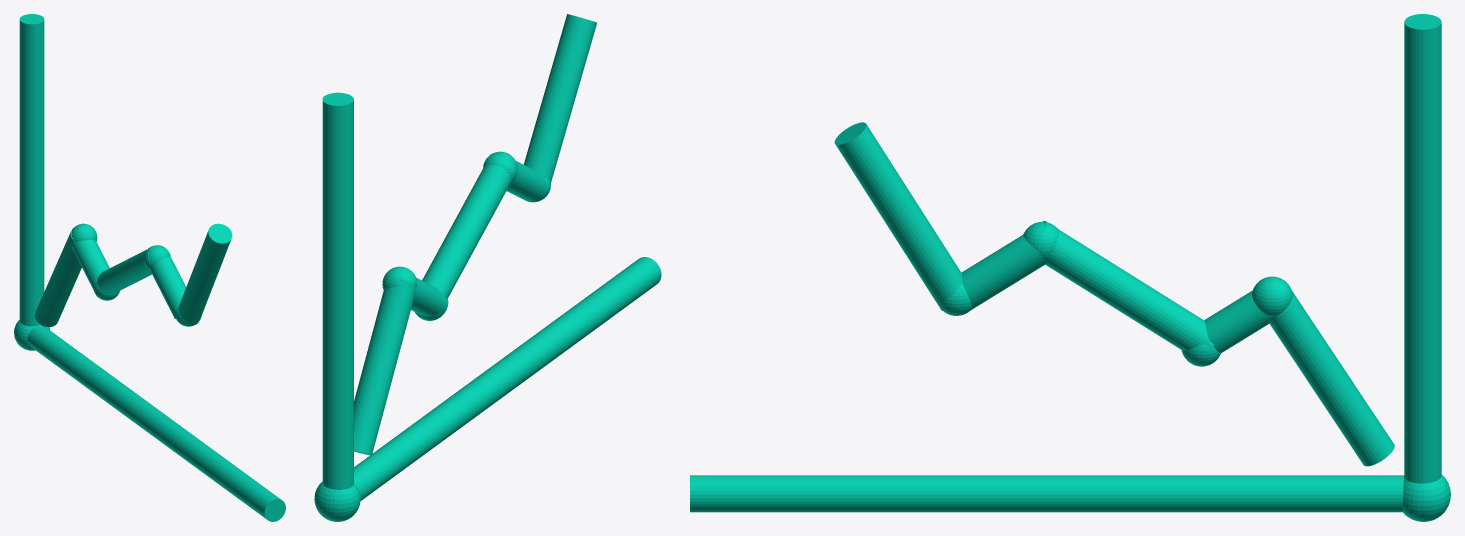
Rendered from Graph.dae.
The picture shows the model from 3 angles, left to right: view 1: azimuth 30°, elevation 25°; view 2: azimuth 150°, elevation 25°; view 3: azimuth 270°, elevation 25°; orthographic projection. The views are drawn at different scales.
Parts seen in each view (by area): view 1: Cylinder, Cylinder_001, Cylinder_007, Cylinder_002, Cylinder_005, Cylinder_006, Cylinder_004, Sphere_002, Sphere, Sphere_004; view 2: Cylinder, Cylinder_001, Cylinder_002, Cylinder_007, Cylinder_005, Sphere, Cylinder_006, Cylinder_004, Sphere_004, Sphere_002; view 3: Cylinder_001, Cylinder, Cylinder_007, Cylinder_002, Cylinder_005, Cylinder_006, Cylinder_004, Sphere, Sphere_004, Sphere_002.
Part boxes in pixels (box(x1,y1,x2,y2)): Cylinder: box(19, 14, 44, 326); Cylinder_001: box(27, 325, 285, 521); Cylinder_007: box(179, 223, 232, 325); Cylinder_002: box(34, 227, 81, 327); Cylinder_005: box(97, 245, 164, 293); Cylinder_006: box(150, 256, 186, 318); Cylinder_004: box(70, 240, 109, 295); Sphere_002: box(143, 245, 170, 270); Sphere: box(14, 320, 49, 350); Sphere_004: box(71, 223, 97, 241); Cylinder: box(322, 92, 353, 489); Cylinder_001: box(354, 257, 661, 500); Cylinder_002: box(354, 279, 417, 455); Cylinder_007: box(524, 14, 596, 182); Cylinder_005: box(422, 153, 518, 298); Sphere: box(314, 481, 360, 521); Cylinder_006: box(506, 161, 547, 202); Cylinder_004: box(411, 278, 448, 316); Sphere_004: box(382, 266, 417, 289); Sphere_002: box(483, 151, 517, 182); Cylinder_001: box(690, 475, 1403, 512); Cylinder: box(1404, 14, 1441, 483); Cylinder_007: box(834, 122, 962, 311); Cylinder_002: box(1269, 281, 1394, 466); Cylinder_005: box(1040, 221, 1213, 350); Cylinder_006: box(961, 235, 1046, 309); Cylinder_004: box(1204, 290, 1271, 353); Sphere: box(1402, 474, 1450, 521); Sphere_004: box(1252, 276, 1292, 316); Sphere_002: box(1023, 221, 1058, 260).
Bounding box in the file's own units: 0.6771 × 9.39 × 6.77.
